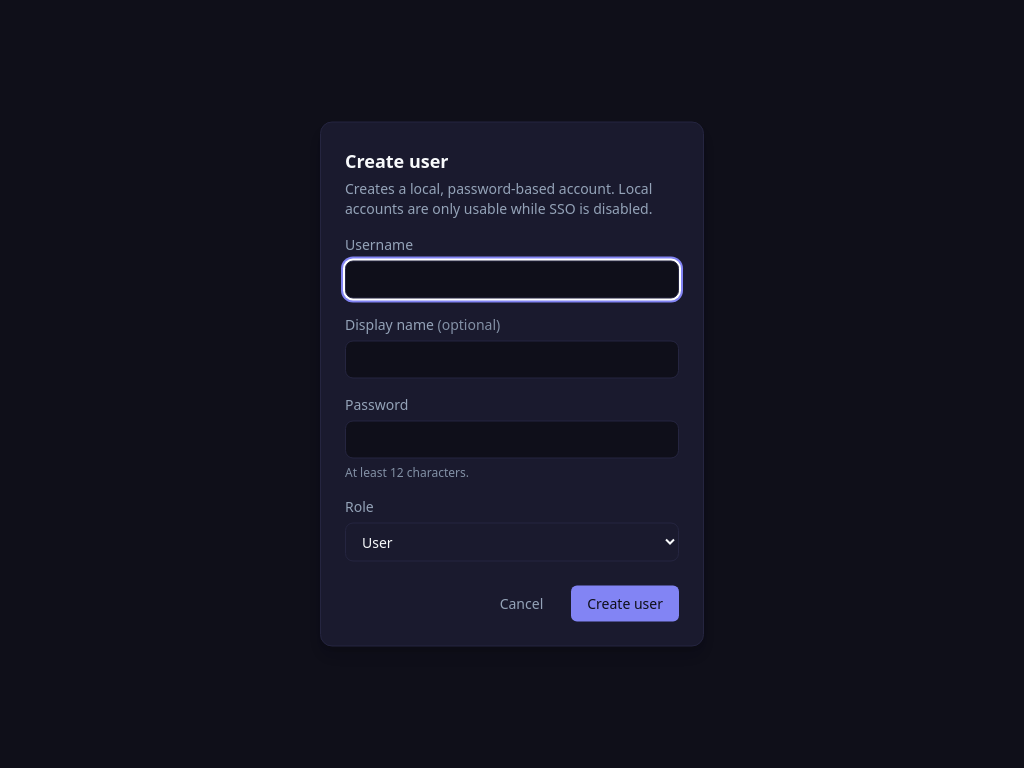
UserFormDialog — mode="create" › blocks submit and shows an inline error when the username is empty
Type "a-very-long-password" into the password field labelled "Password" at x=512, y=440, box x1=345 y1=420 x2=679 y2=458
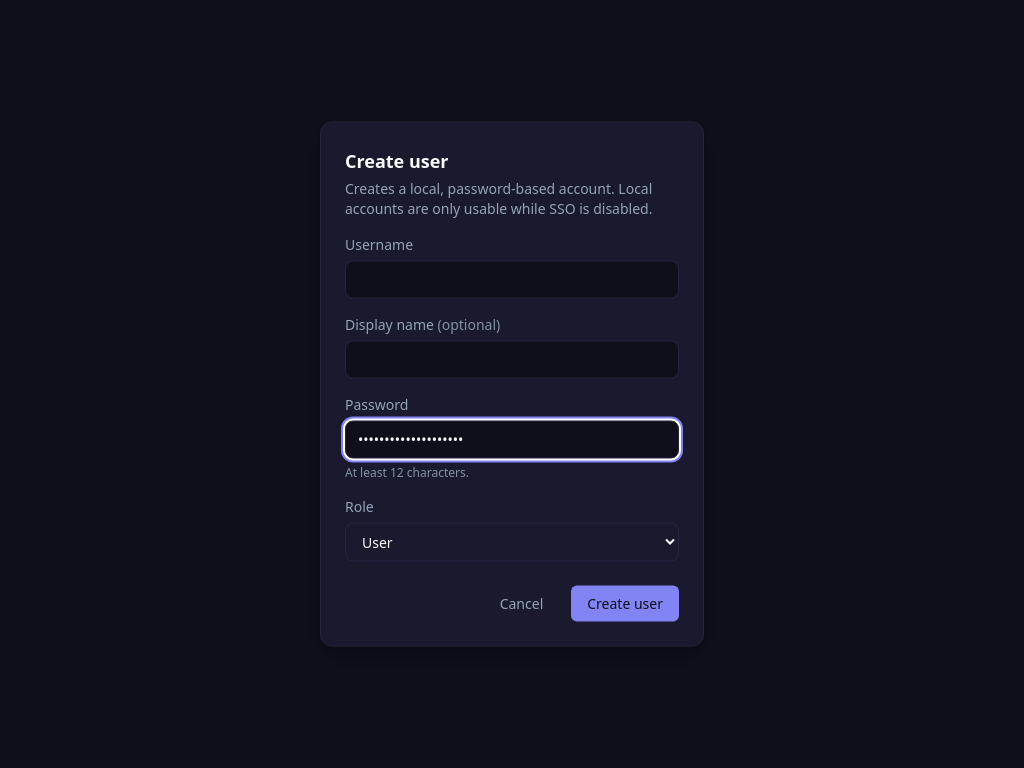
Click the button "Create user" at x=625, y=604, box x1=571 y1=586 x2=679 y2=622
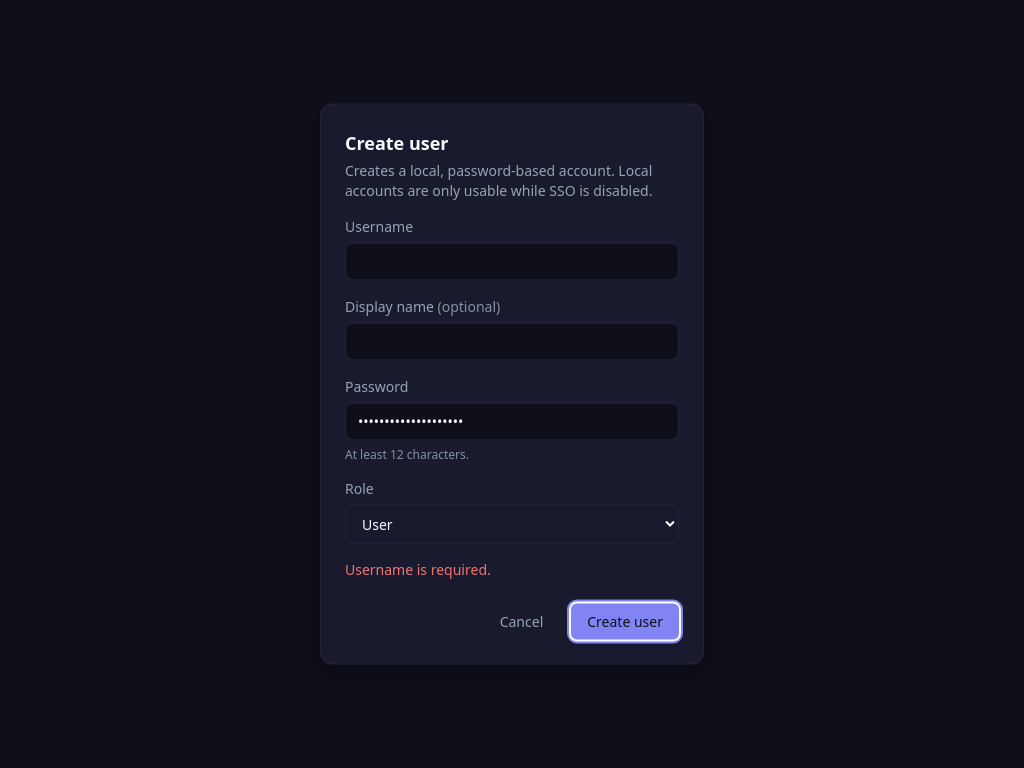
expect the message reads "Username is required.": met, box x1=345 y1=560 x2=491 y2=578
